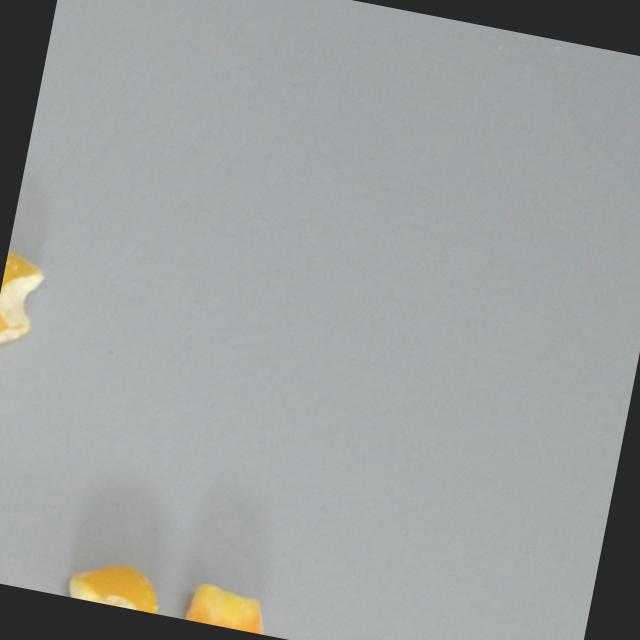pelicula: (66, 556, 169, 615), (182, 577, 274, 635), (0, 247, 48, 355)
